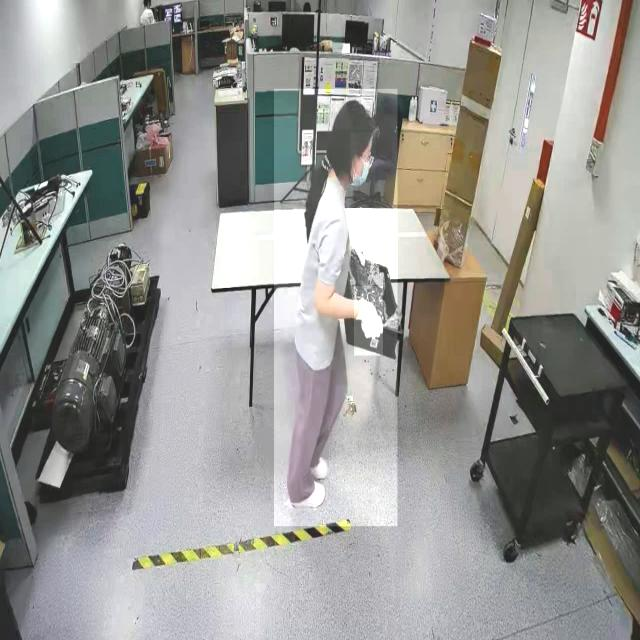face_mask: (350, 132, 376, 195)
hand_glove: (353, 286, 383, 356)
head_nohelmet: (335, 100, 376, 130)
person: (274, 89, 398, 527)
shoes: (286, 480, 330, 513), (302, 448, 332, 482)
